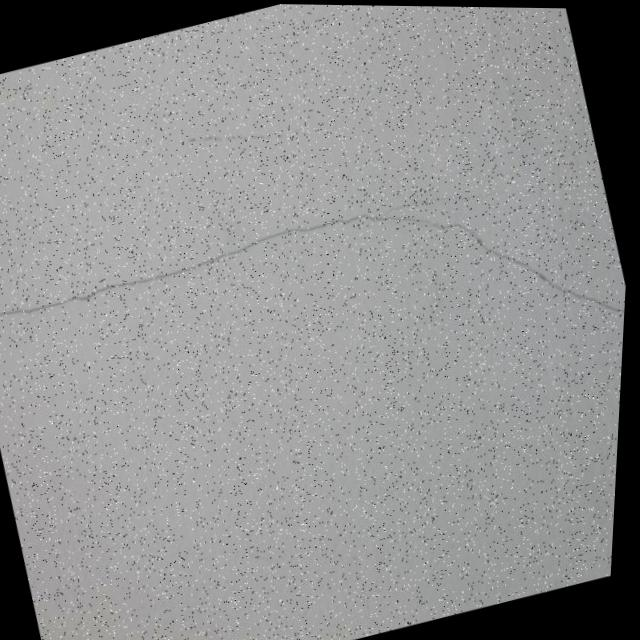Crack: (0, 134, 635, 520)
